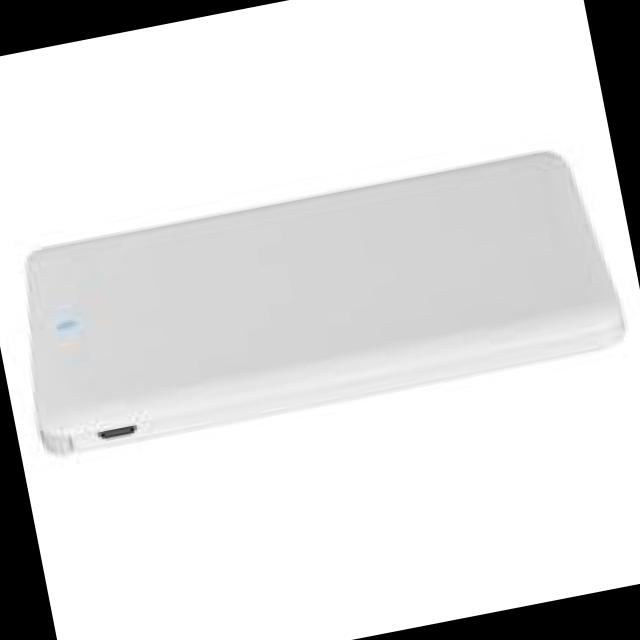power_bank: (1, 138, 635, 464)
